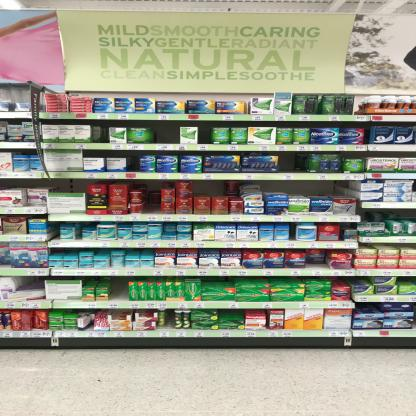Void: (267, 181, 350, 195), (196, 180, 240, 194), (276, 151, 305, 170), (146, 183, 163, 214), (13, 276, 49, 289), (156, 124, 178, 143), (55, 180, 89, 192), (202, 276, 237, 287), (112, 280, 129, 302), (199, 123, 212, 142), (308, 262, 329, 273)
